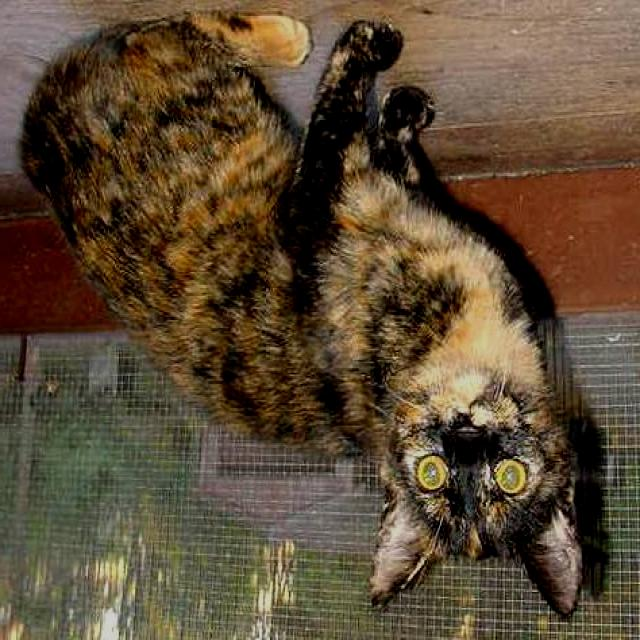Kucing: (16, 12, 610, 638)
